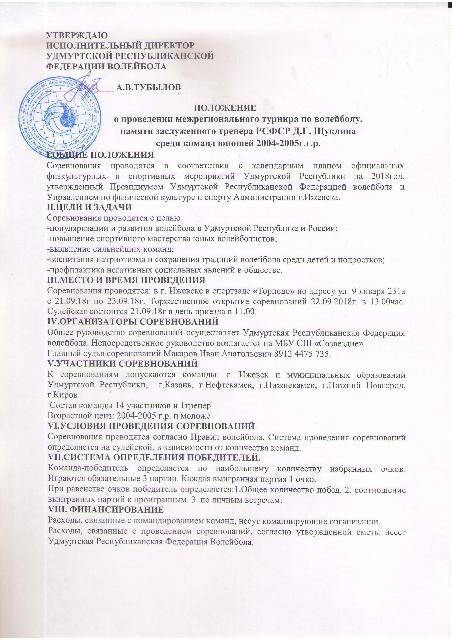stamp: (18, 77, 102, 161)
